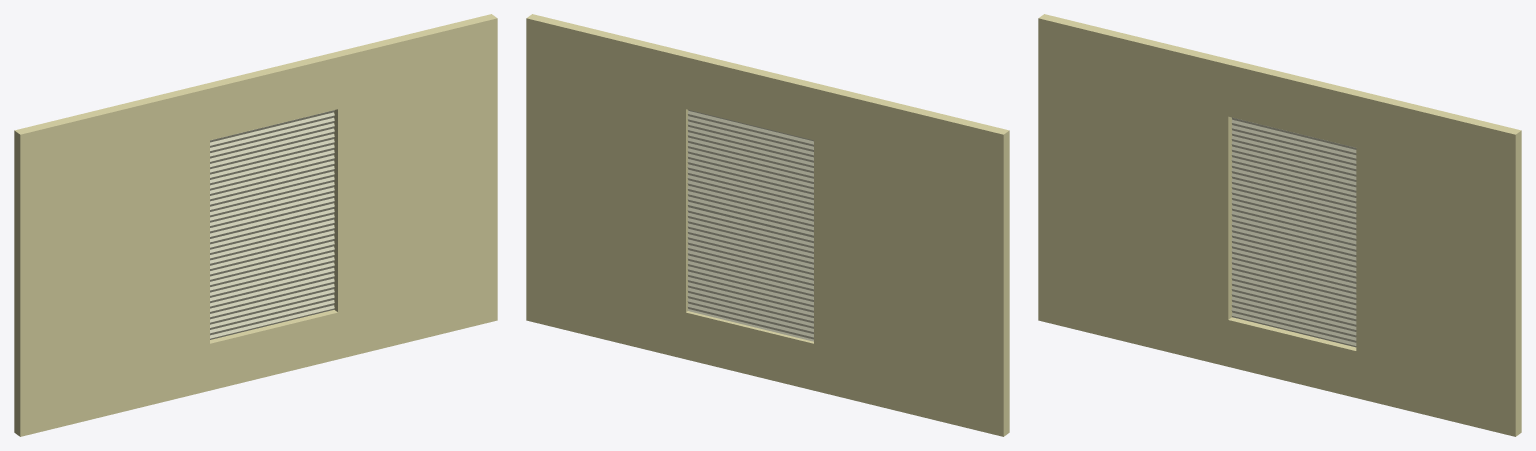
Rendered from wall_one_winddow.fbx.
3 views of the same model, side by side, from view 1: azimuth 30°, elevation 25°; view 2: azimuth 150°, elevation 25°; view 3: azimuth 330°, elevation 25° (orthographic).
Parts seen in each view (by area): view 1: pCube19, shade3; view 2: pCube19, shade3; view 3: pCube19, shade3.
Part boxes in pixels (box(x1,y1,x2,y2)): pCube19: box(14, 14, 497, 436); shade3: box(210, 110, 334, 339); pCube19: box(526, 14, 1009, 436); shade3: box(687, 109, 813, 341); pCube19: box(1038, 14, 1521, 436); shade3: box(1231, 117, 1356, 347).
Bounding box in the file's own units: 13.42 × 8.12 × 0.2863.
